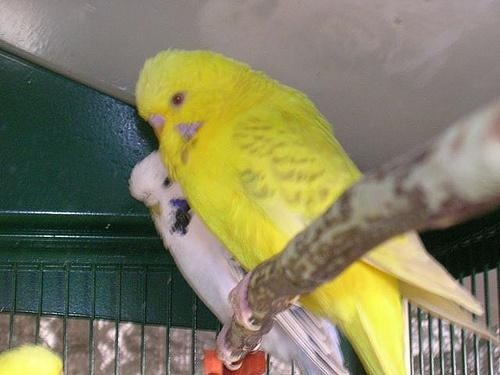bird: (135, 46, 500, 374), (124, 146, 365, 375)
